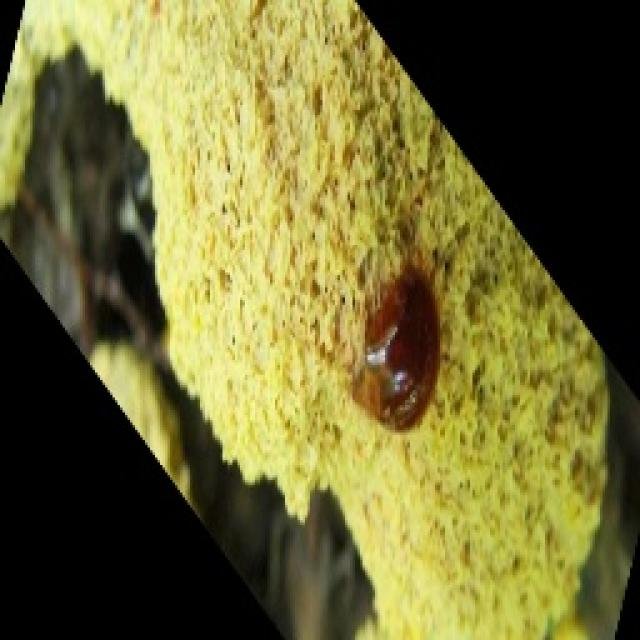Dog_vomit_slime_mold: (0, 2, 612, 637)
